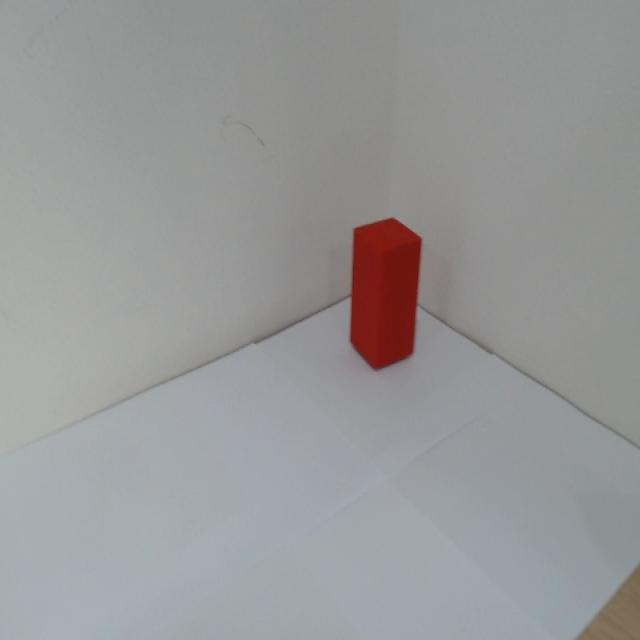cube: (342, 211, 425, 378)
